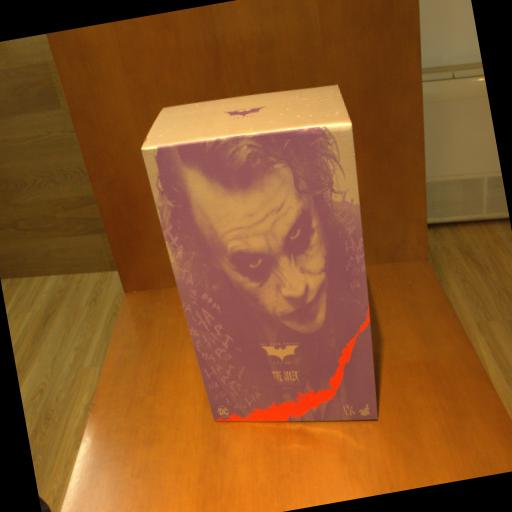Joker: (134, 75, 403, 449)
